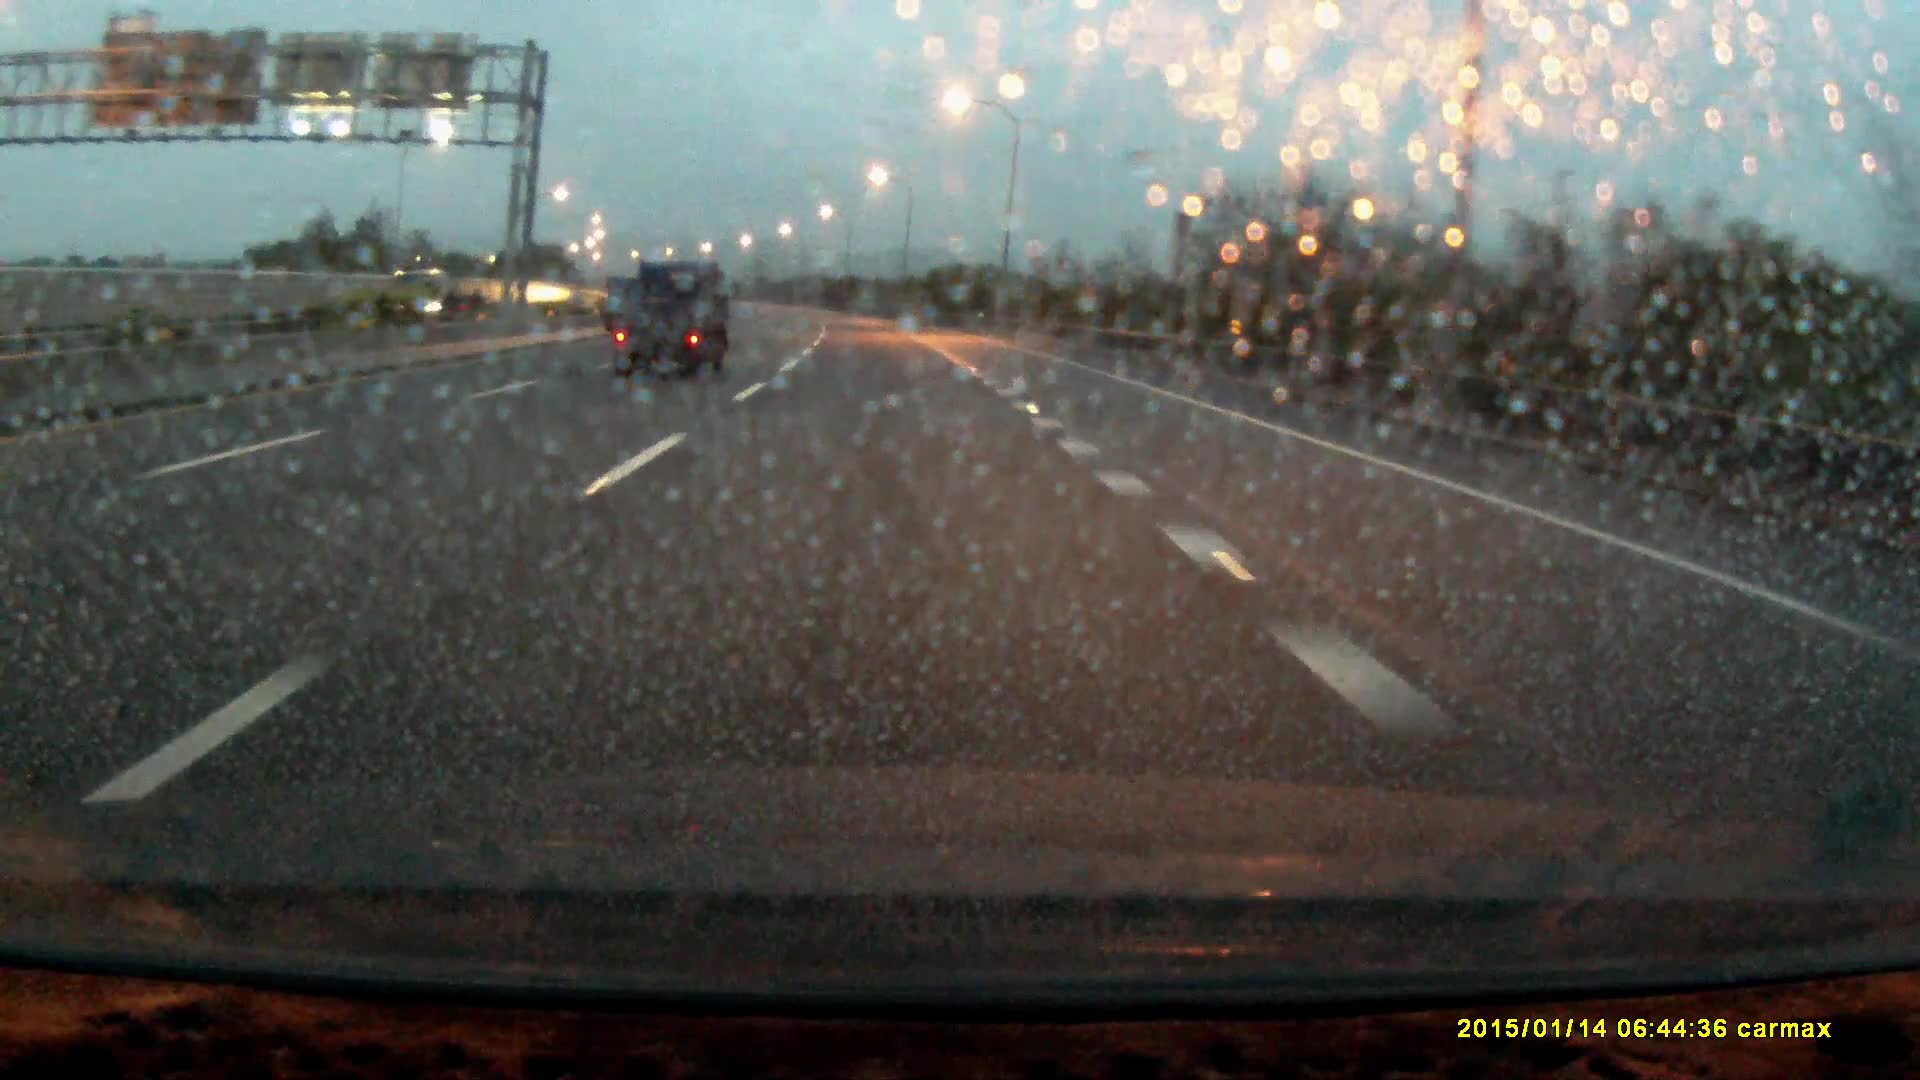vehicle: (611, 258, 733, 381), (390, 265, 497, 316)
